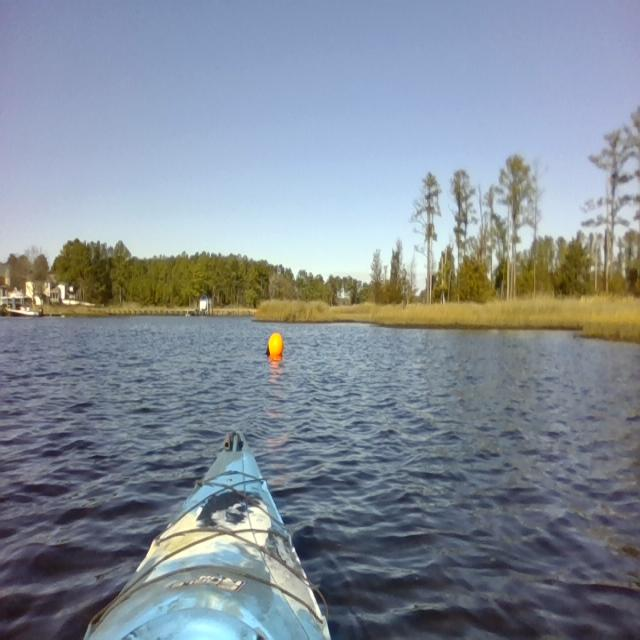Buoy: (260, 328, 293, 366)
